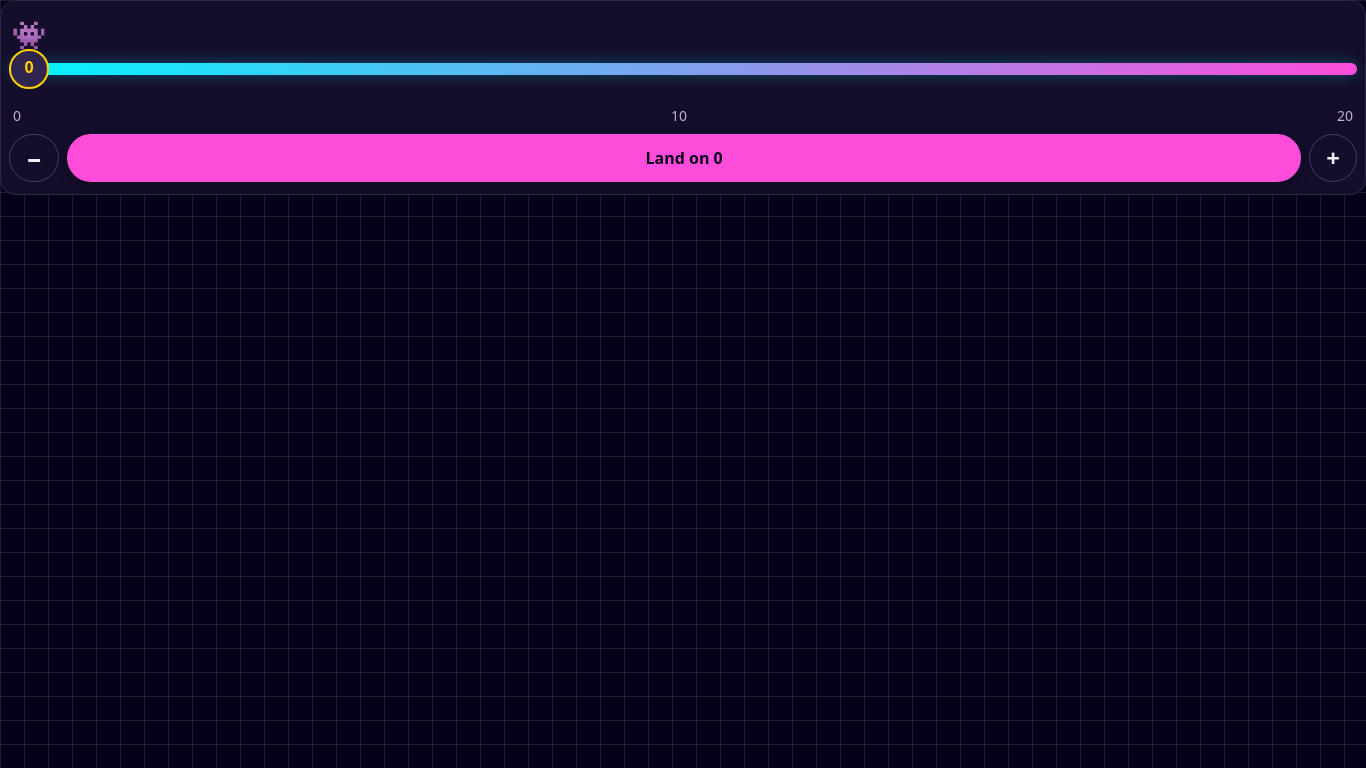
Scenario: BeamSlider › accepts a position dragged straight onto the beam
Set the slider to "13". click: (883, 69)
box: top-left (9, 47), bottom-right (1357, 91)
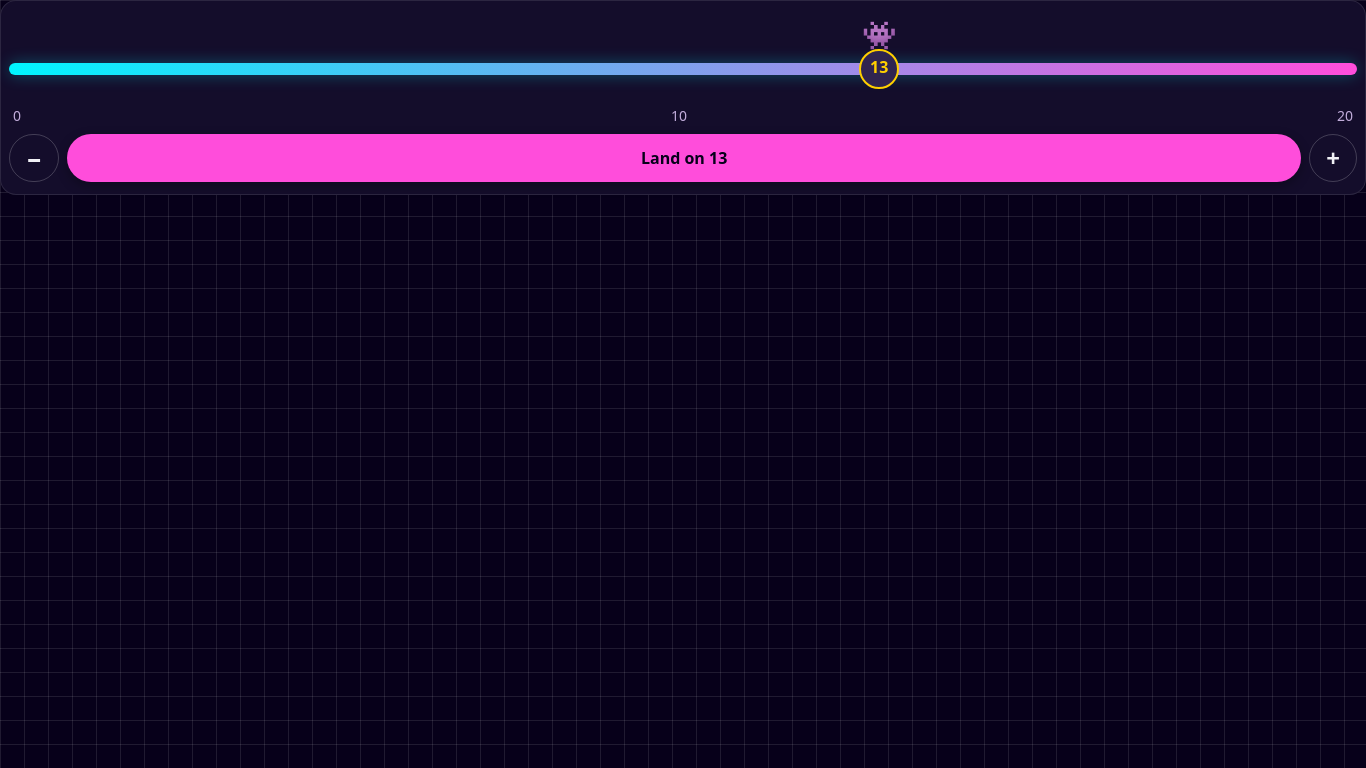
Expected: the button "Land on 13" is shown, top-left (67, 134), bottom-right (1301, 182)
